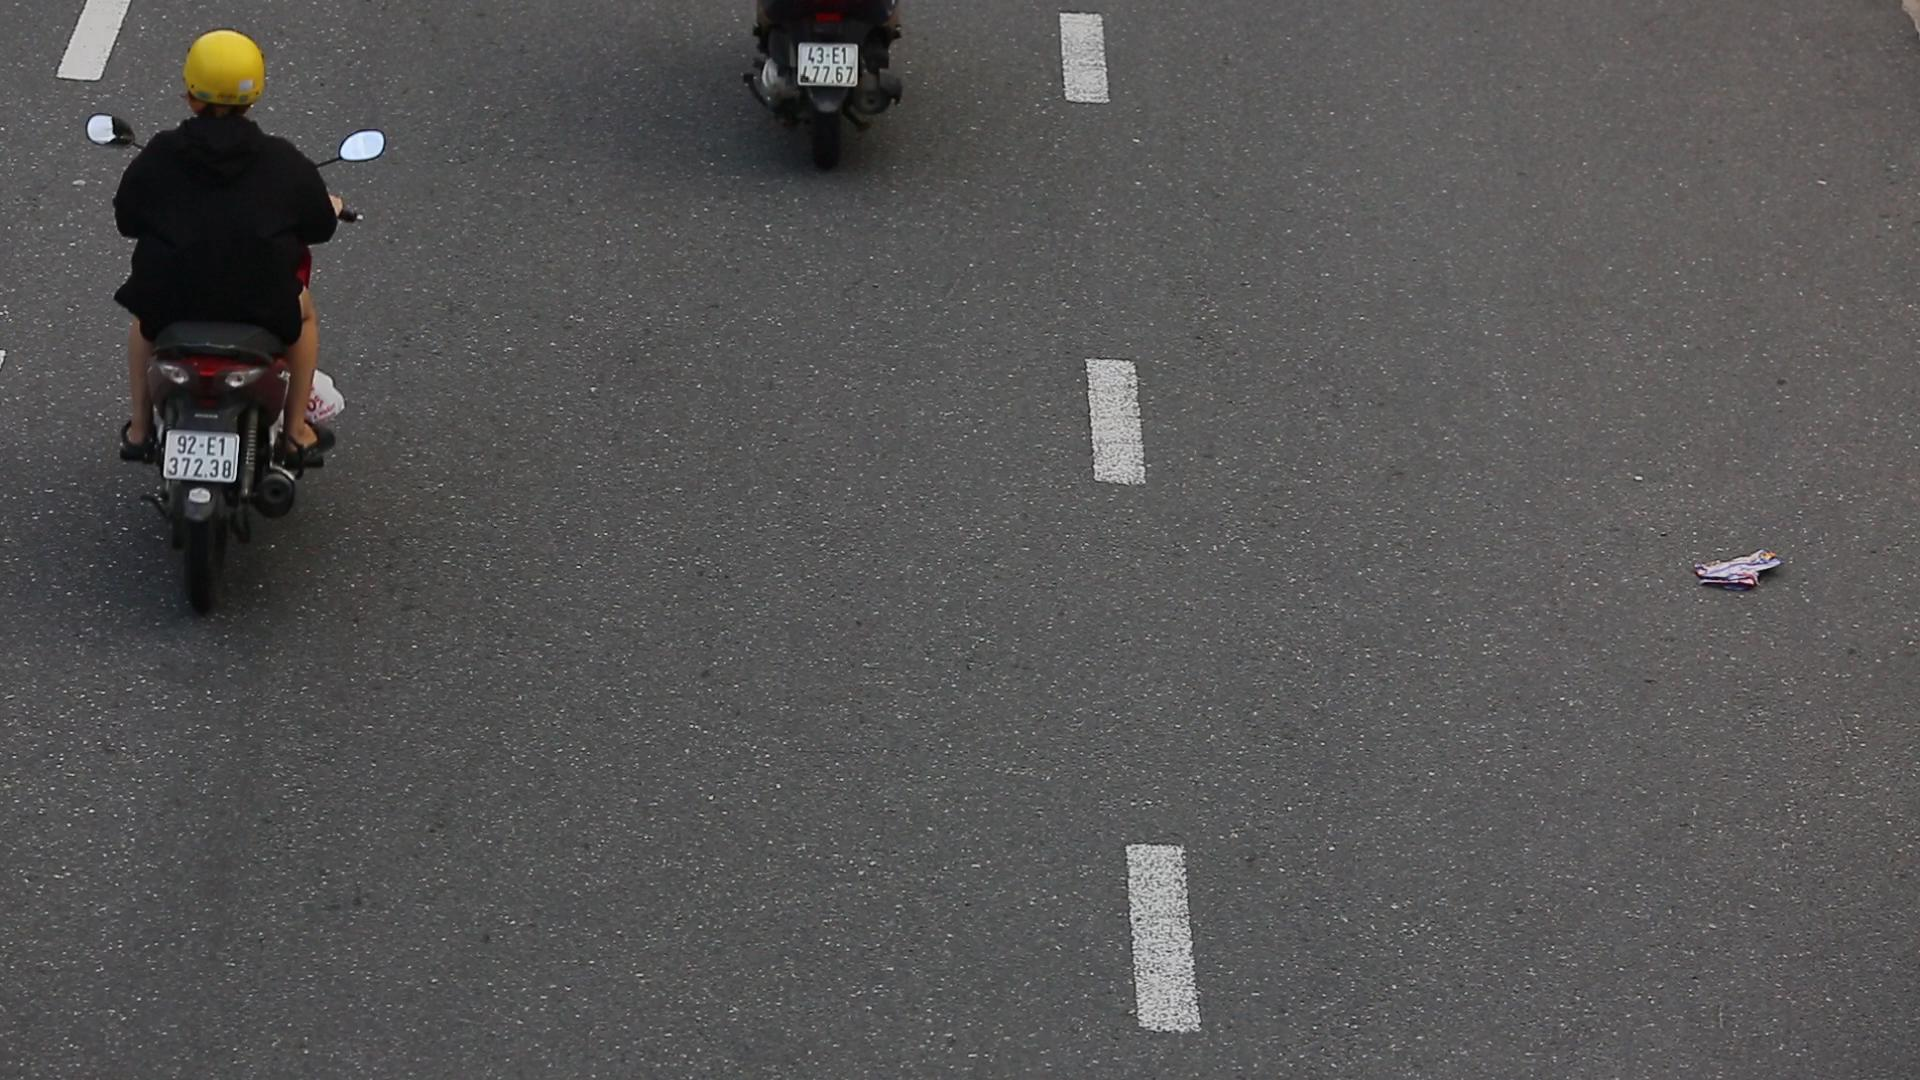motobike: (74, 5, 393, 649)
